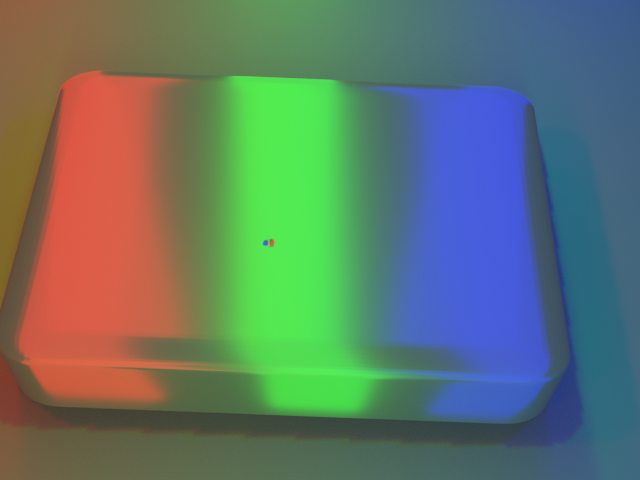dent: (247, 224, 281, 256)
